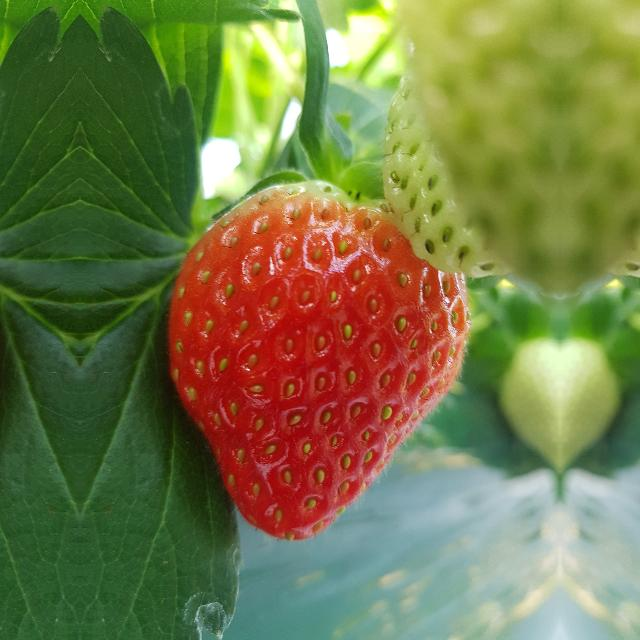Health_100: (166, 178, 470, 542)
